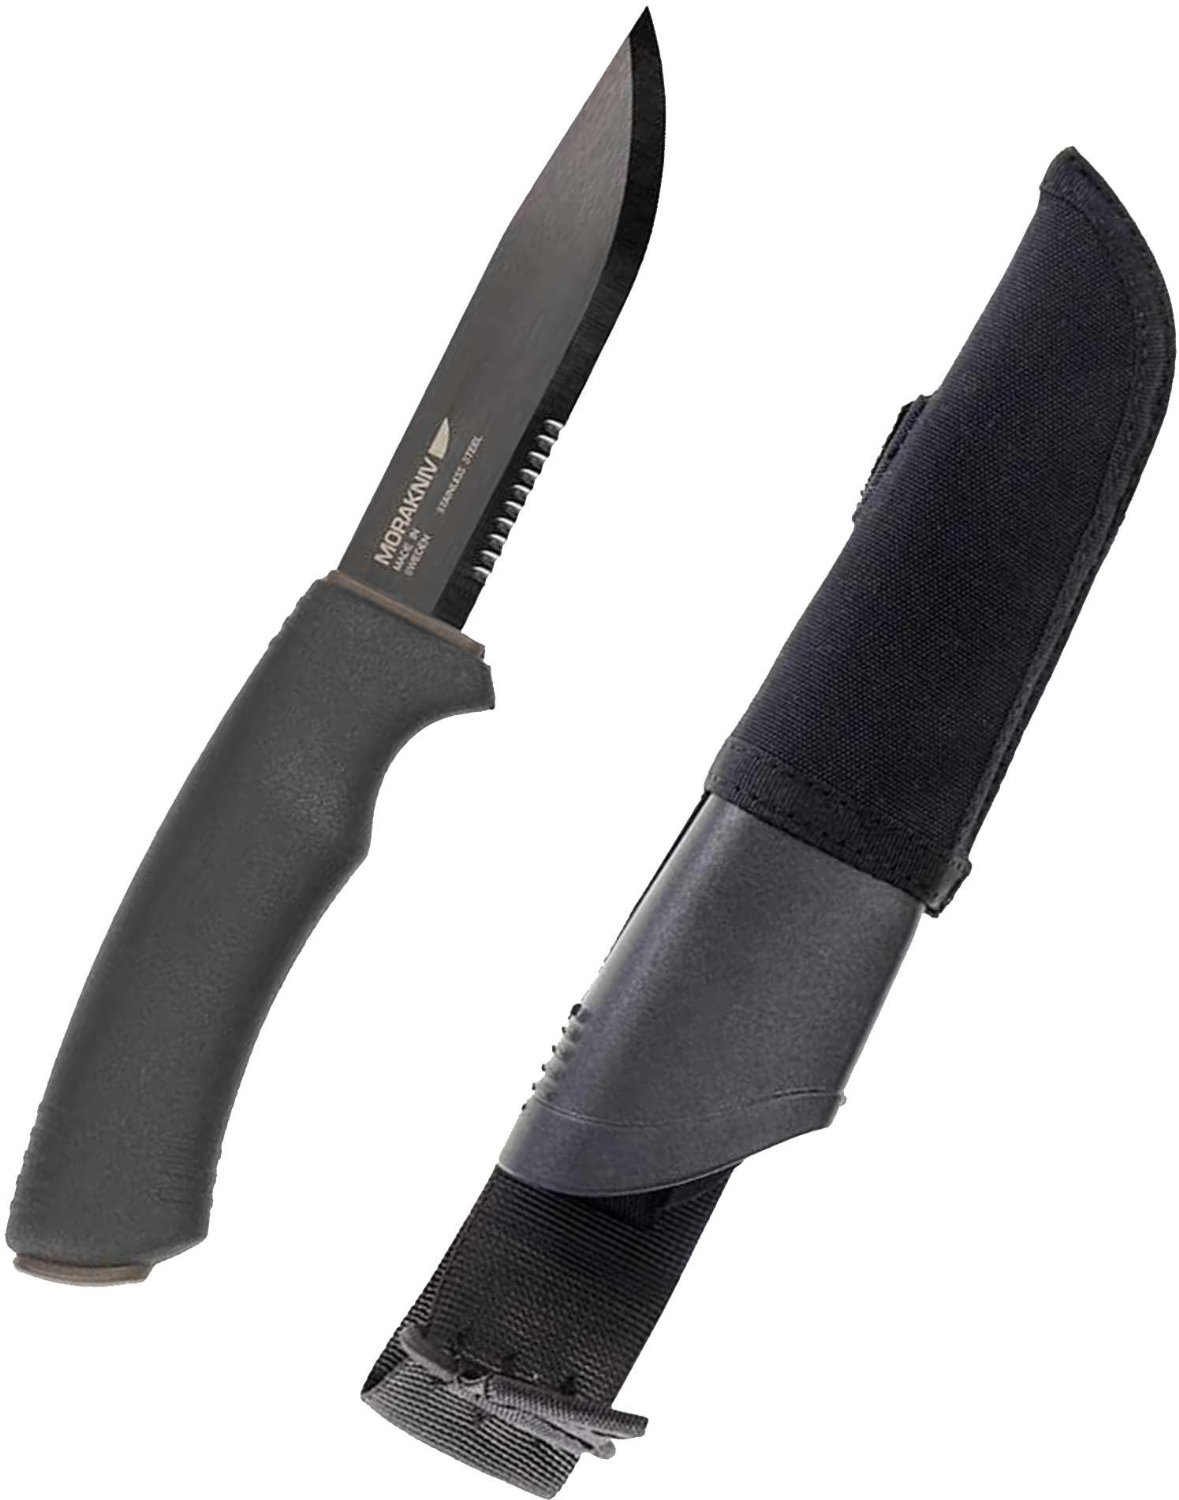knief: (41, 18, 723, 1260)
